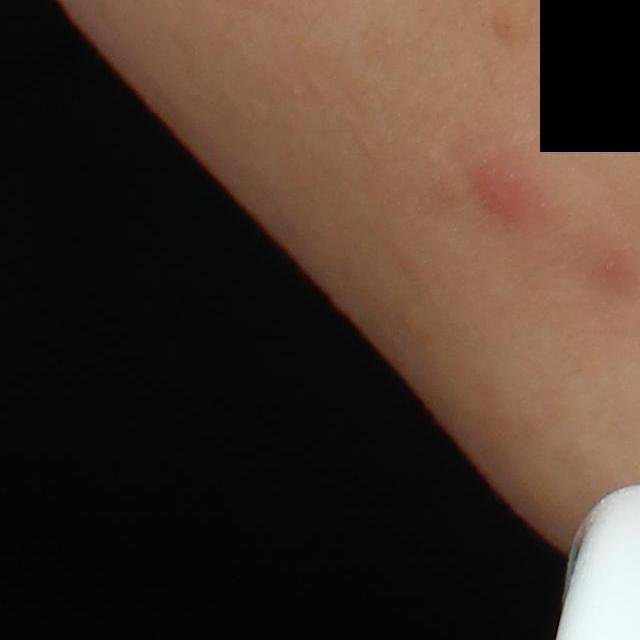papule: (463, 151, 542, 228)
